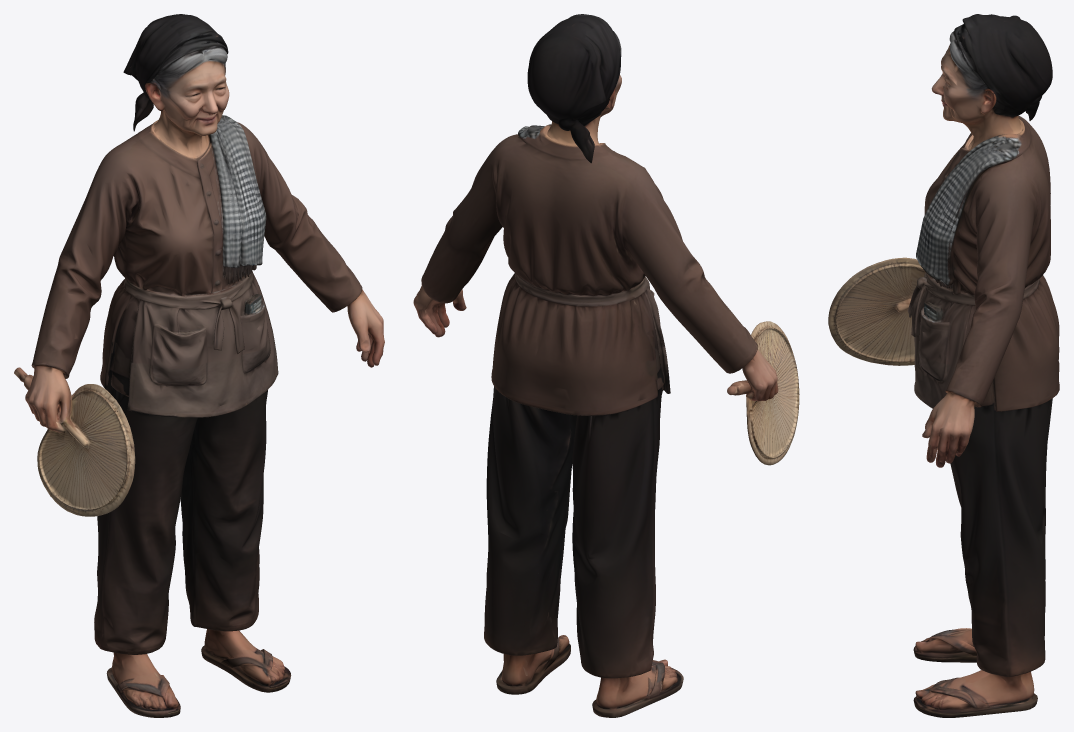
Rendered from Babantaphoa.fbx.
3 renders of one model, left to right at view 1: azimuth 30°, elevation 25°; view 2: azimuth 150°, elevation 25°; view 3: azimuth 270°, elevation 25°, orthographic.
Parts seen in each view (by area): view 1: node_0; view 2: node_0; view 3: node_0.
Part boxes in pixels (x1,y1,x2,y2): node_0: (14,14,384,717); node_0: (413,14,799,717); node_0: (828,14,1059,717).
Bounding box in the file's own units: 64.24 × 115 × 36.43.
1 material, 1 textured.
